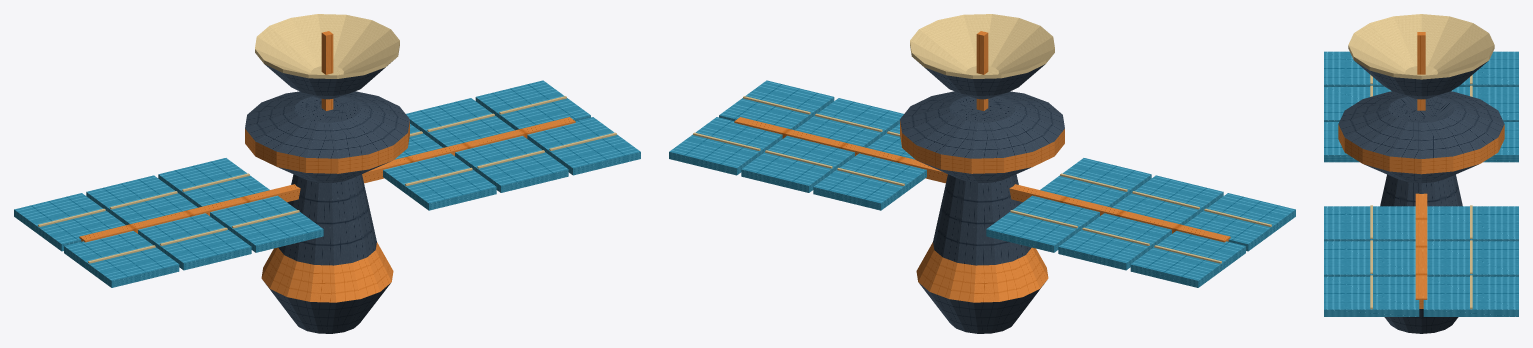
Rendered from solar_relay.glb.
3 views of the same model, side by side, from view 1: azimuth 30°, elevation 25°; view 2: azimuth 150°, elevation 25°; view 3: azimuth 270°, elevation 25° (orthographic).
Size of the model in its own units: 36.7 by 19 by 11.72.
1 material, 1 textured.
